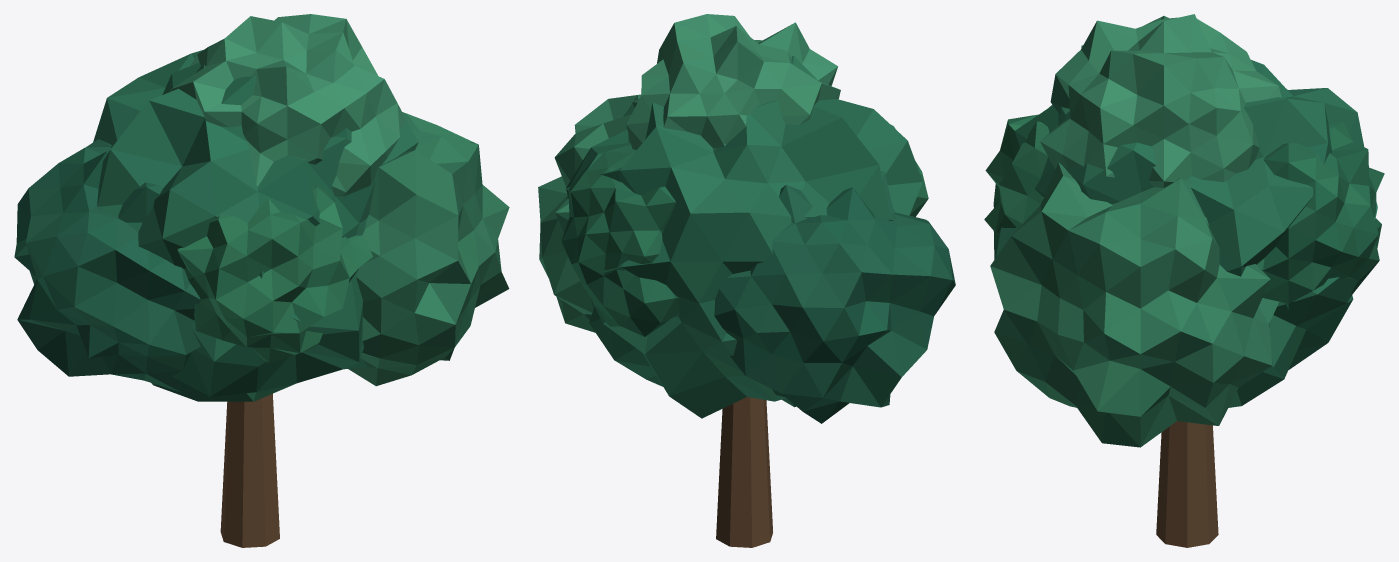
File: tree-round.glb
3 views of the same model, side by side, from view 1: azimuth 30°, elevation 25°; view 2: azimuth 150°, elevation 25°; view 3: azimuth 270°, elevation 25° (orthographic). The views are drawn at different scales.
Visible parts, largest first — view 1: tree-round; view 2: tree-round; view 3: tree-round.
Boxes of the visible parts, x1,y1,x2,y2 form: tree-round: (14,14,509,547); tree-round: (538,14,955,547); tree-round: (984,14,1384,547).
Size of the model in its own units: 6.49 by 7.41 by 5.14.
